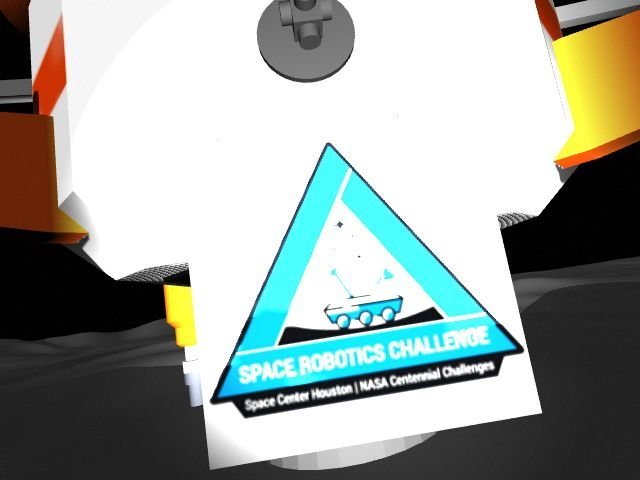basemarker: (209, 142, 525, 419)
